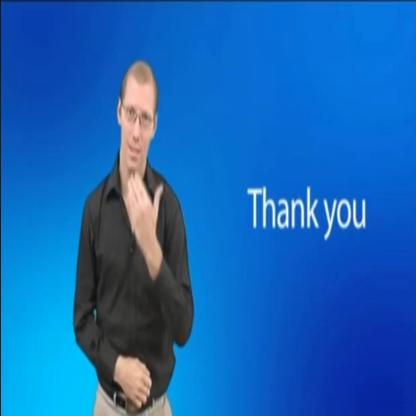ThankYou: (100, 34, 177, 284)
